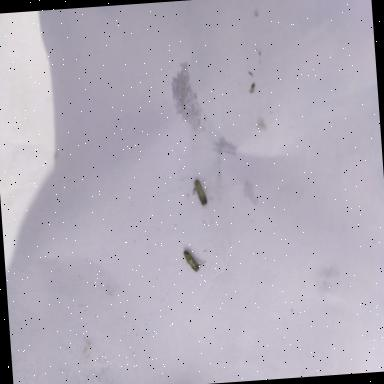pbw: (183, 249, 206, 272), (192, 178, 207, 206)
